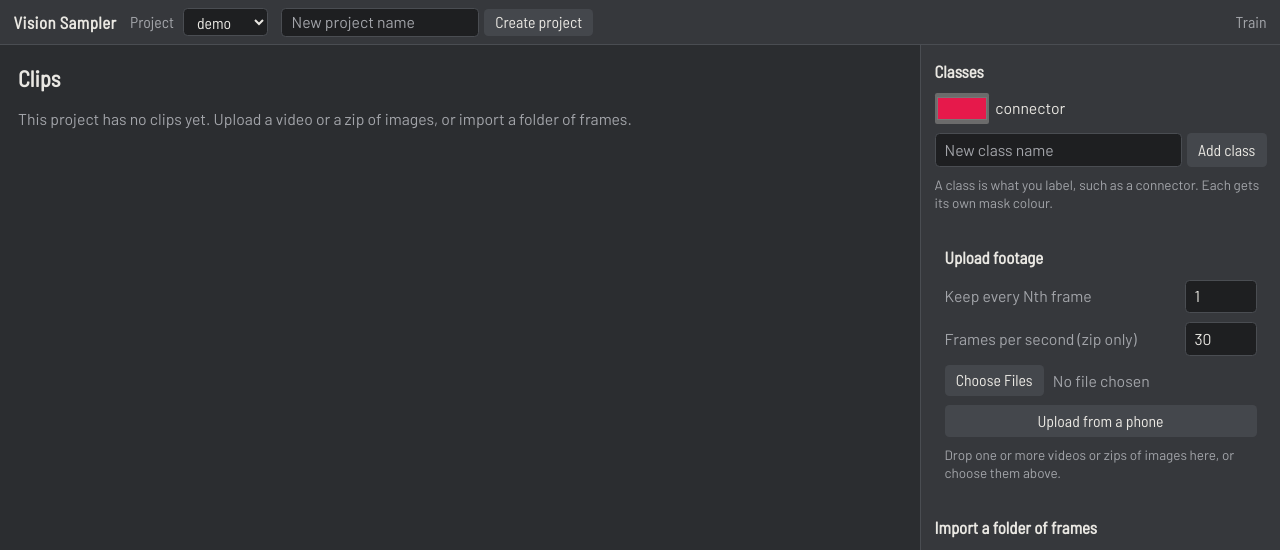
Scenario: Clips page › ignores a slow clip list from the previously selected project
Expected: the list item "connector" is shown, [934,93,1065,124]
Select "second" in the dropdown labelled "Project" at (226, 22), box [183,8,268,36]
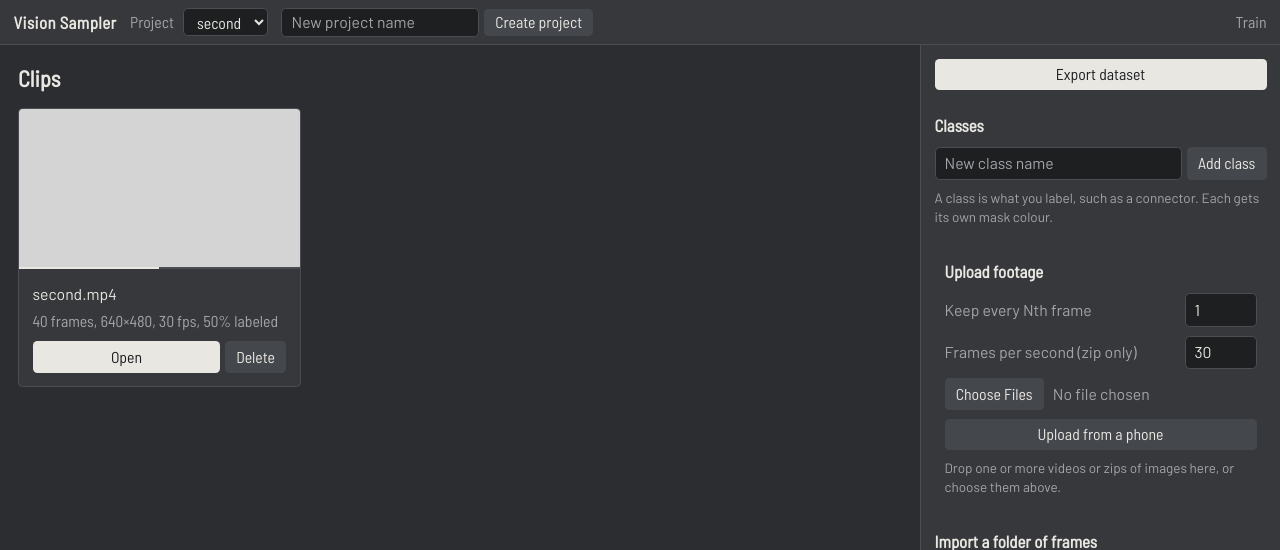
Now the text "second.mp4" is shown, box [32,284,117,303]
